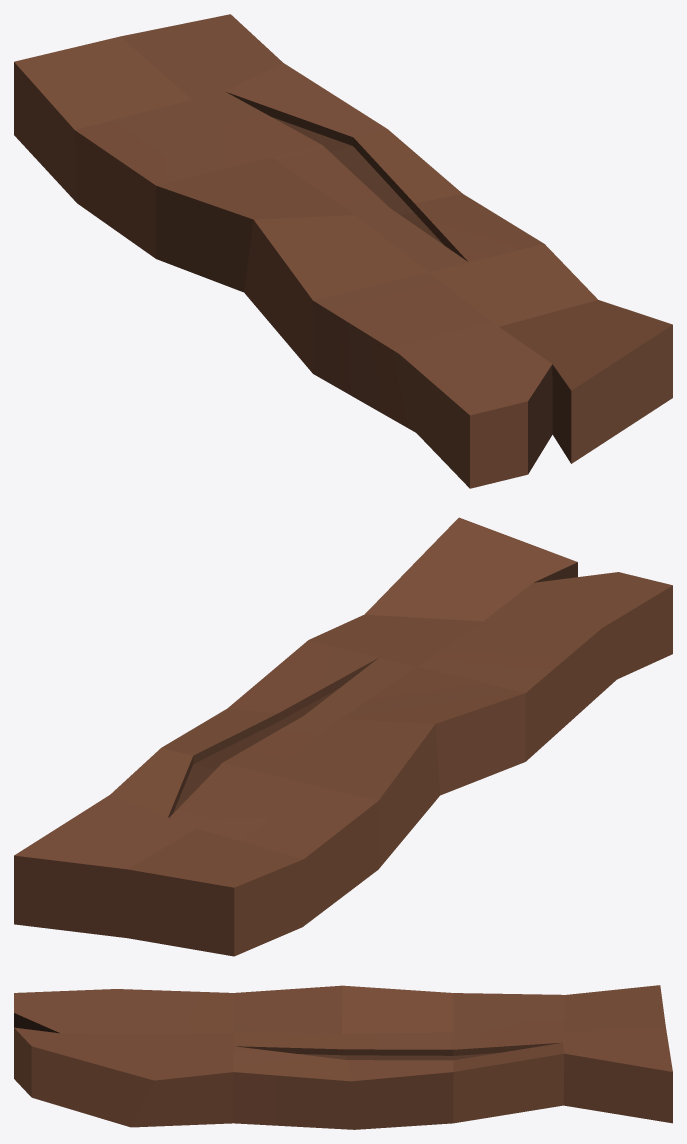
The model's file is Resource_Plank.fbx.
The picture shows the model from 3 angles, top to bottom: view 1: azimuth 30°, elevation 25°; view 2: azimuth 150°, elevation 25°; view 3: azimuth 270°, elevation 25°; orthographic projection. The views are drawn at different scales.
Parts seen in each view (by area): view 1: Resource; view 2: Resource; view 3: Resource.
Boxes of the visible parts, x1,y1,x2,y2 form: Resource: (14,14,672,488); Resource: (14,517,672,956); Resource: (14,985,672,1129).
Size of the model in its own units: 106 by 48.89 by 366.
1 material, 1 textured.
